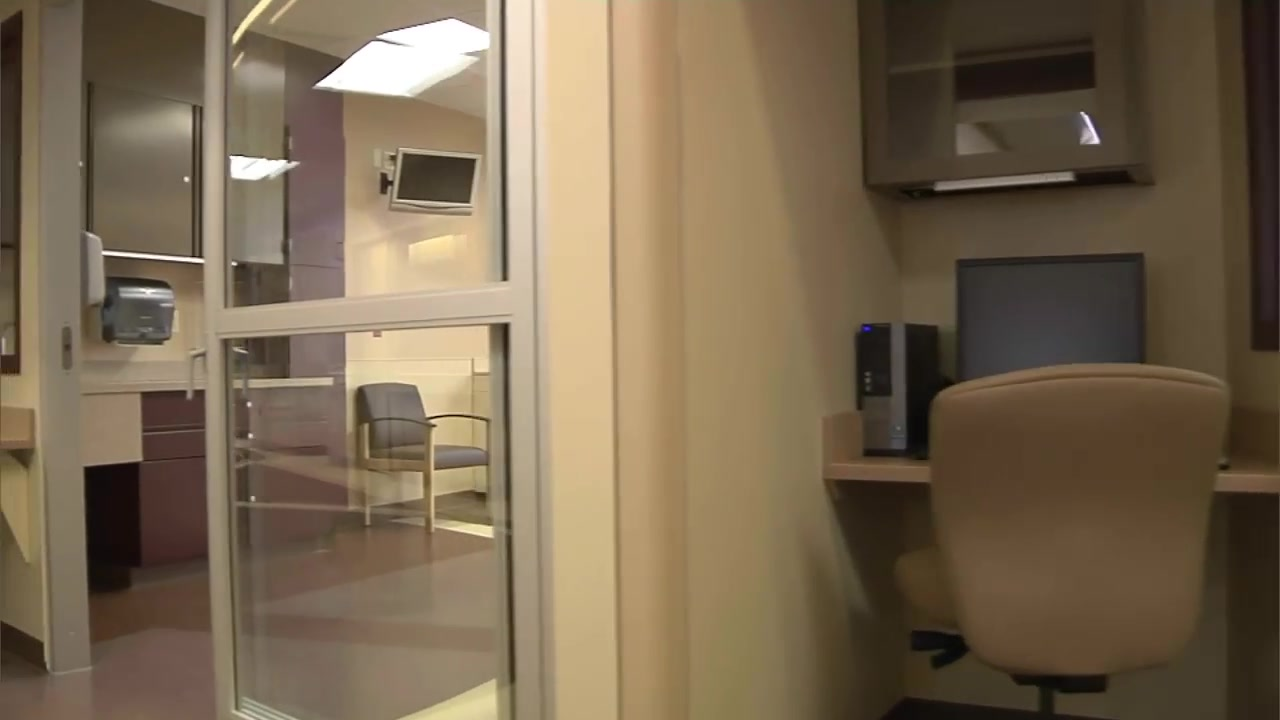TV: (390, 149, 483, 220)
cabinet: (839, 5, 1151, 195), (1, 85, 284, 257)
chair: (894, 365, 1228, 720), (358, 384, 492, 536)
computer: (956, 254, 1145, 381)
countertop: (822, 447, 1280, 496), (79, 376, 334, 393)
dispenser: (104, 281, 177, 348), (82, 236, 107, 309)
door_handle: (188, 353, 214, 408)
handle: (181, 176, 191, 184)
